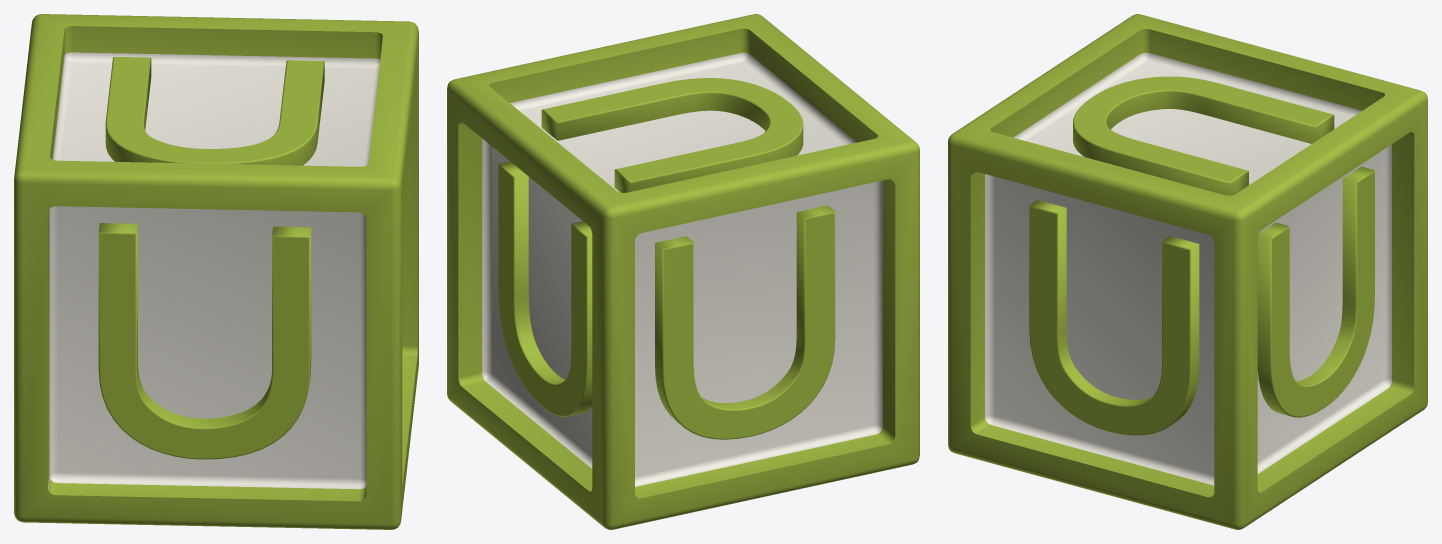
The model's file is abc_toy_1_biji.glb.
The picture shows the model from 3 angles, left to right: view 1: azimuth 30°, elevation 25°; view 2: azimuth 150°, elevation 25°; view 3: azimuth 270°, elevation 25°; orthographic projection. The views are drawn at different scales.
Parts seen in each view (by area): view 1: Object_5, Object_4; view 2: Object_5, Object_4; view 3: Object_5, Object_4.
Part boxes in pixels (x1,y1,x2,y2): Object_5: [14, 14, 418, 529]; Object_4: [48, 52, 380, 490]; Object_5: [447, 14, 919, 529]; Object_4: [482, 52, 882, 486]; Object_5: [948, 14, 1427, 529]; Object_4: [985, 52, 1391, 485].
Bounding box in the file's own units: 10.09 × 7.41 × 10.09.
